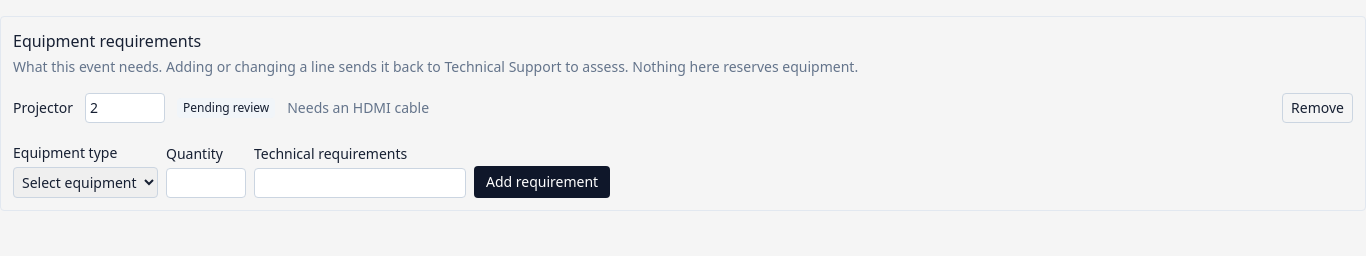
Scenario: AC6: removing a requirement says the reservation is not simply gone
Expected: the number field named "Quantity for Projector" is shown, x1=85 y1=93 x2=165 y2=123
Click the button with aria-label "Remove Projector" at (1318, 108), box x1=1282 y1=93 x2=1353 y2=123
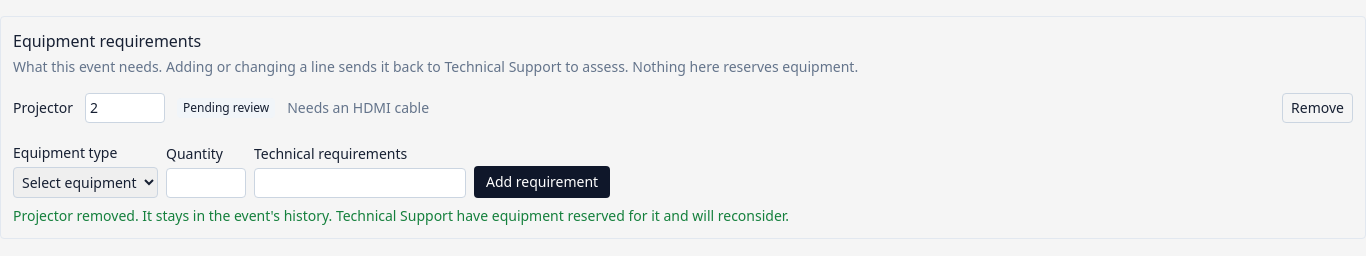
Expected: the message shows "Technical Support have equipment reserved for it and will reconsider", x1=13 y1=206 x2=789 y2=225
